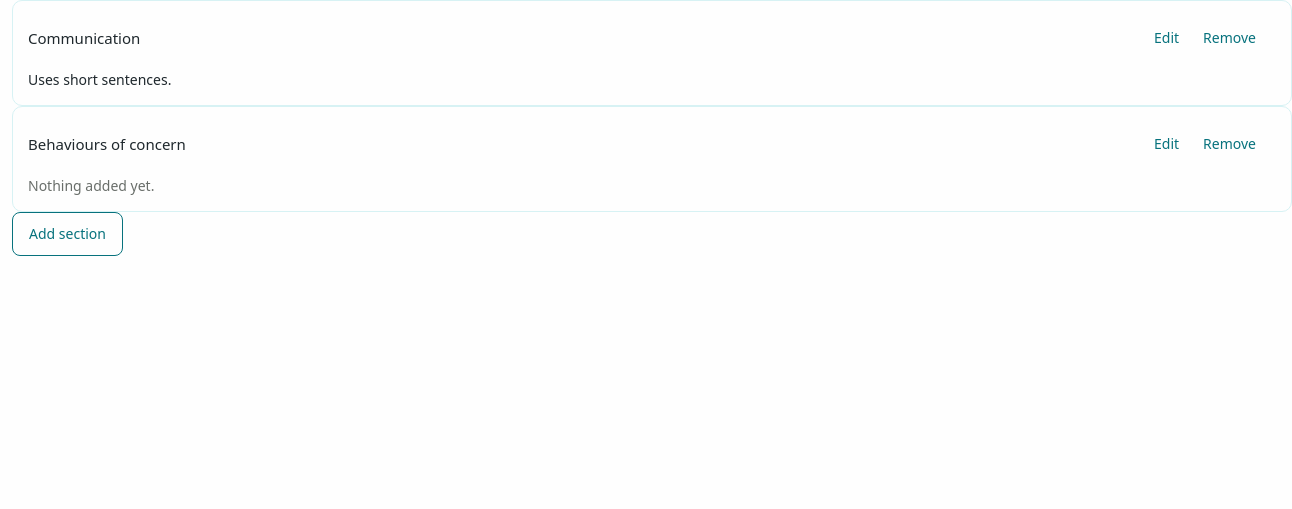
Test case: [F0-26][AC-14] refusals while editing › [F0-26][AC-14] a section removed by someone else is dropped and the reason announced
Click the button with aria-label "Edit Communication" at (1167, 38), box [1142,16,1191,60]
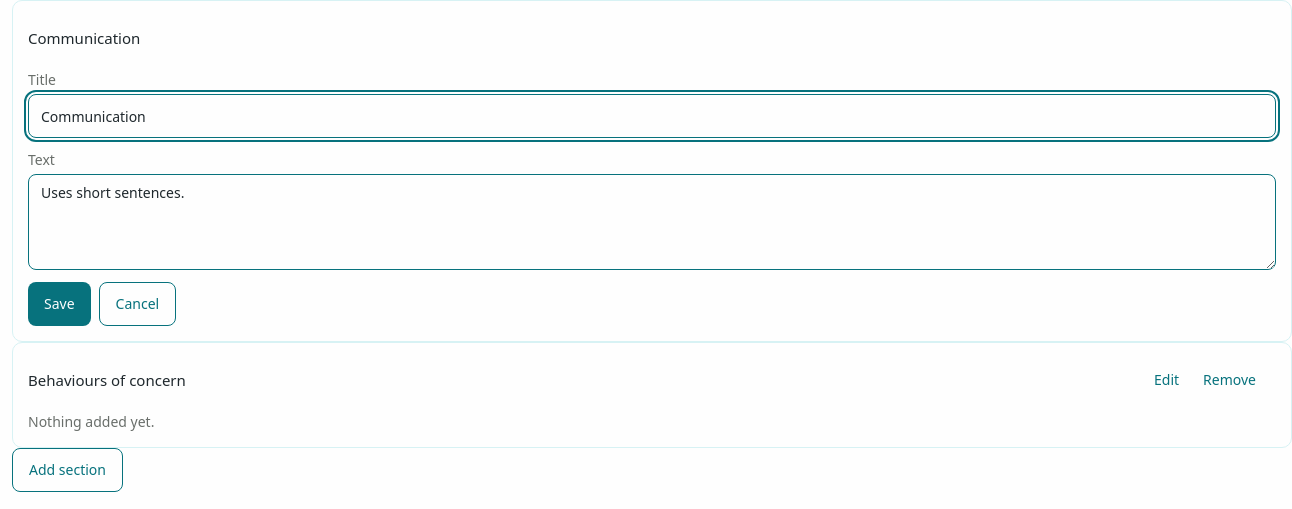
Click the button "Save" at (59, 304), box [28,282,91,326]
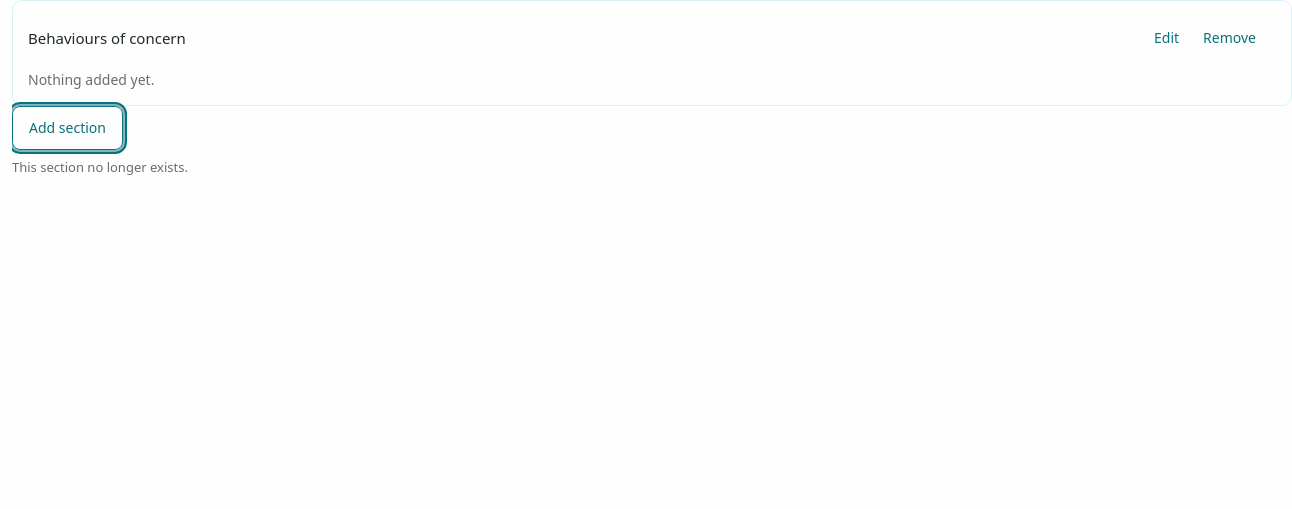
Expected: the heading "Communication" is gone
Expected: the message reads "This section no longer exists.", [12,158,188,176]
